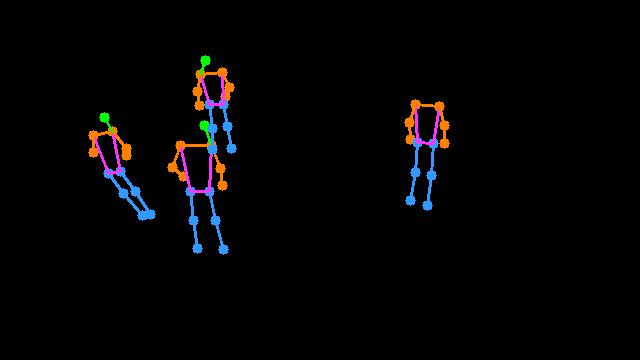normal: (83, 36, 245, 265)
